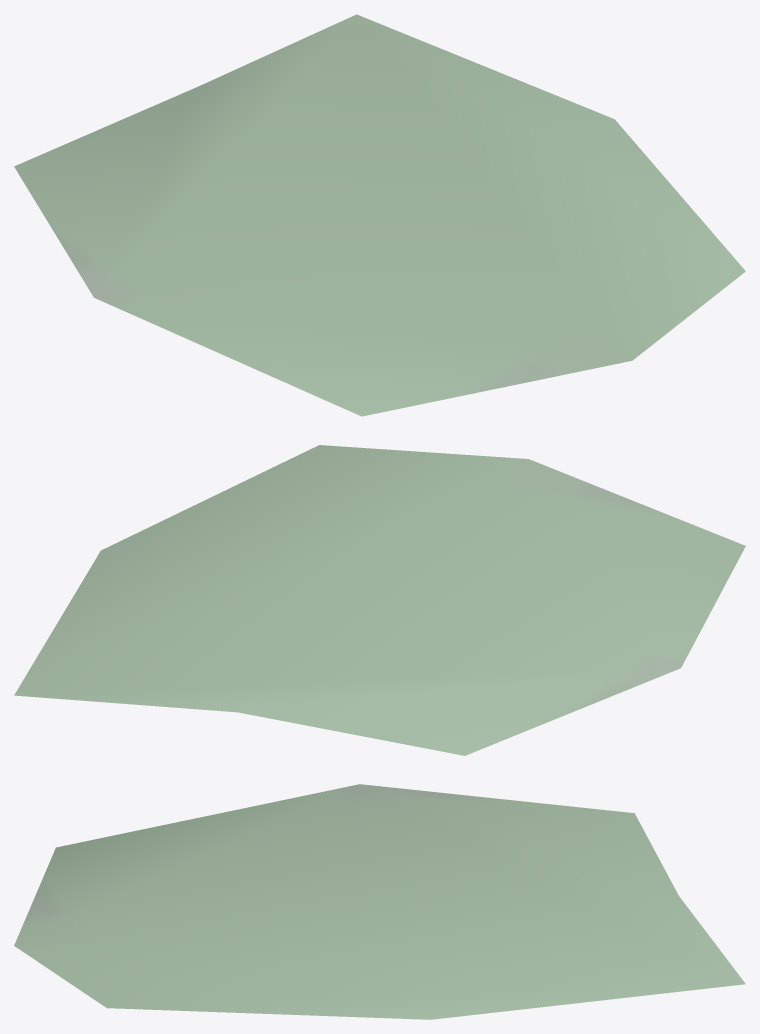
Rendered from TROLLHOLE02_HOLECAP03.fbx.
3 renders of one model, top to bottom at view 1: azimuth 30°, elevation 25°; view 2: azimuth 150°, elevation 25°; view 3: azimuth 270°, elevation 25°, orthographic. The views are drawn at different scales.
Parts seen in each view (by area): view 1: TROLLHOLE02_HOLECAP03; view 2: TROLLHOLE02_HOLECAP03; view 3: TROLLHOLE02_HOLECAP03.
Boxes of the visible parts, box(x1,y1,x2,y2) form: TROLLHOLE02_HOLECAP03: box(14, 14, 745, 416); TROLLHOLE02_HOLECAP03: box(14, 445, 745, 755); TROLLHOLE02_HOLECAP03: box(14, 784, 745, 1019).
Bounding box in the file's own units: 22559 × 1357 × 28157.
Materials: 1 (1 with a texture image).
